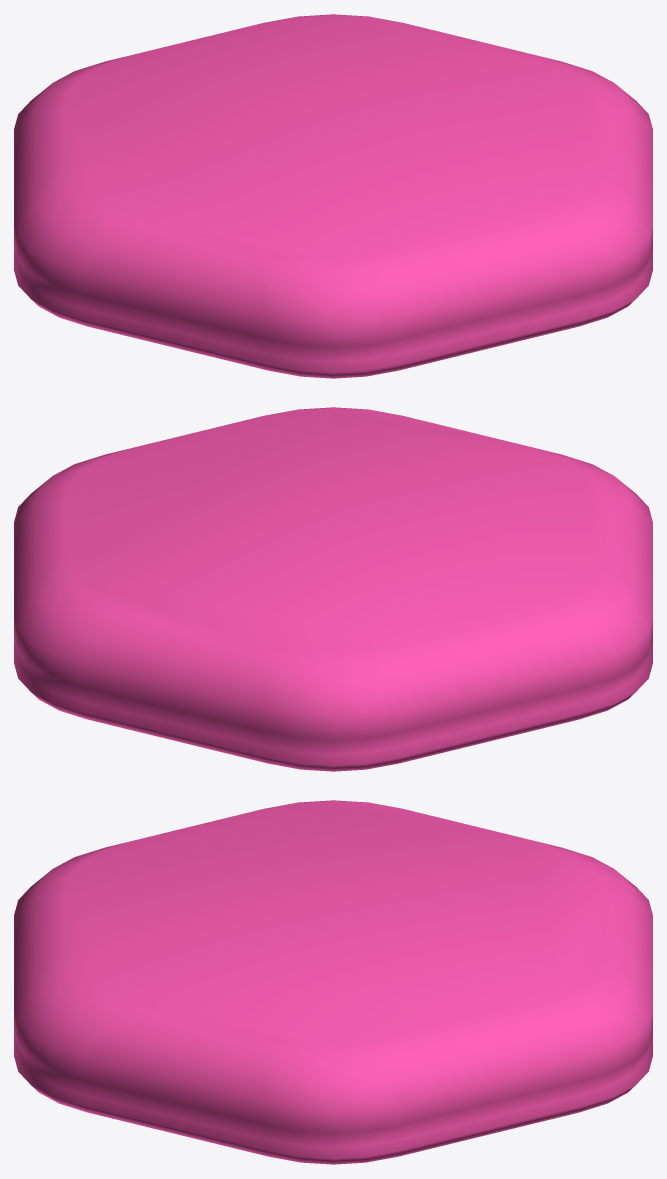
Rendered from Hexa_Macaron.fbx.
The picture shows the model from 3 angles, top to bottom: view 1: azimuth 30°, elevation 25°; view 2: azimuth 150°, elevation 25°; view 3: azimuth 270°, elevation 25°; orthographic projection.
Visible parts, largest first — view 1: hexa_Macaron; view 2: hexa_Macaron; view 3: hexa_Macaron.
Part boxes in pixels (left/top/right/bottom): hexa_Macaron: left=14, top=14, right=652, bottom=378; hexa_Macaron: left=14, top=407, right=652, bottom=771; hexa_Macaron: left=14, top=800, right=652, bottom=1164.
Bounding box in the file's own units: 92.82 × 14.29 × 84.8.
